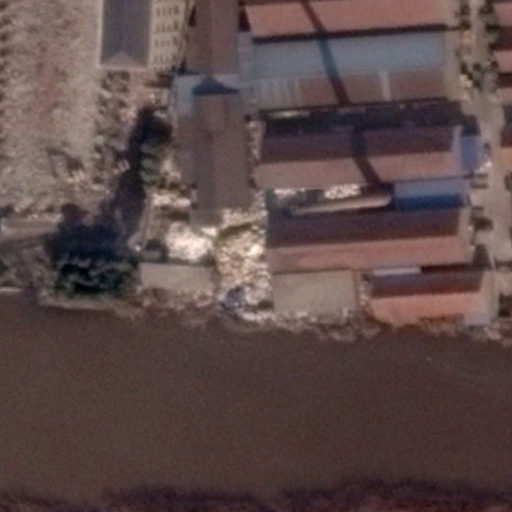msw: (165, 207, 272, 309)
